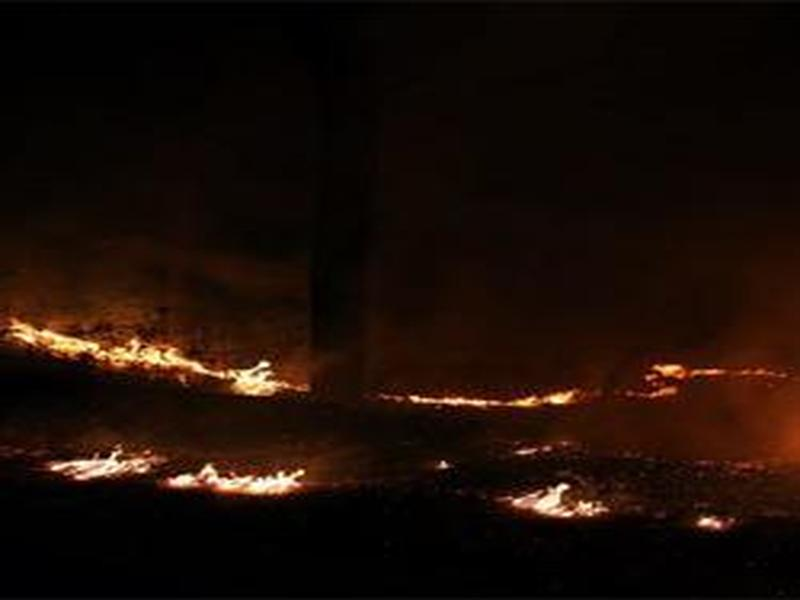FIRE: (13, 296, 768, 555)
